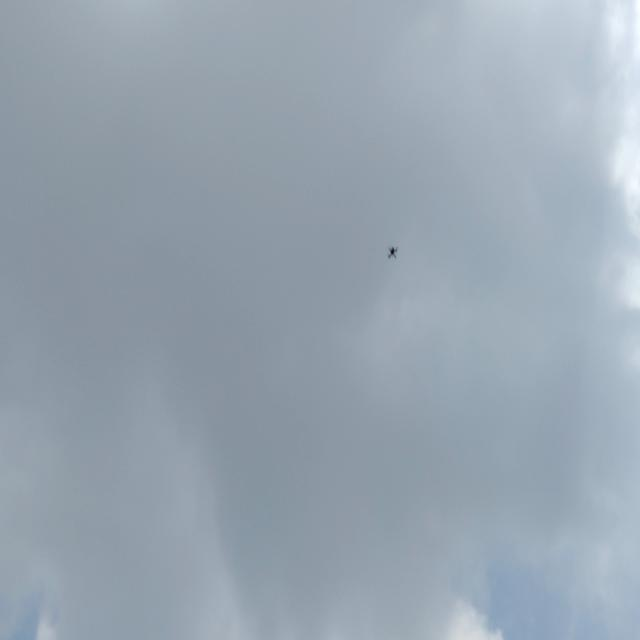drone: (384, 240, 404, 268)
